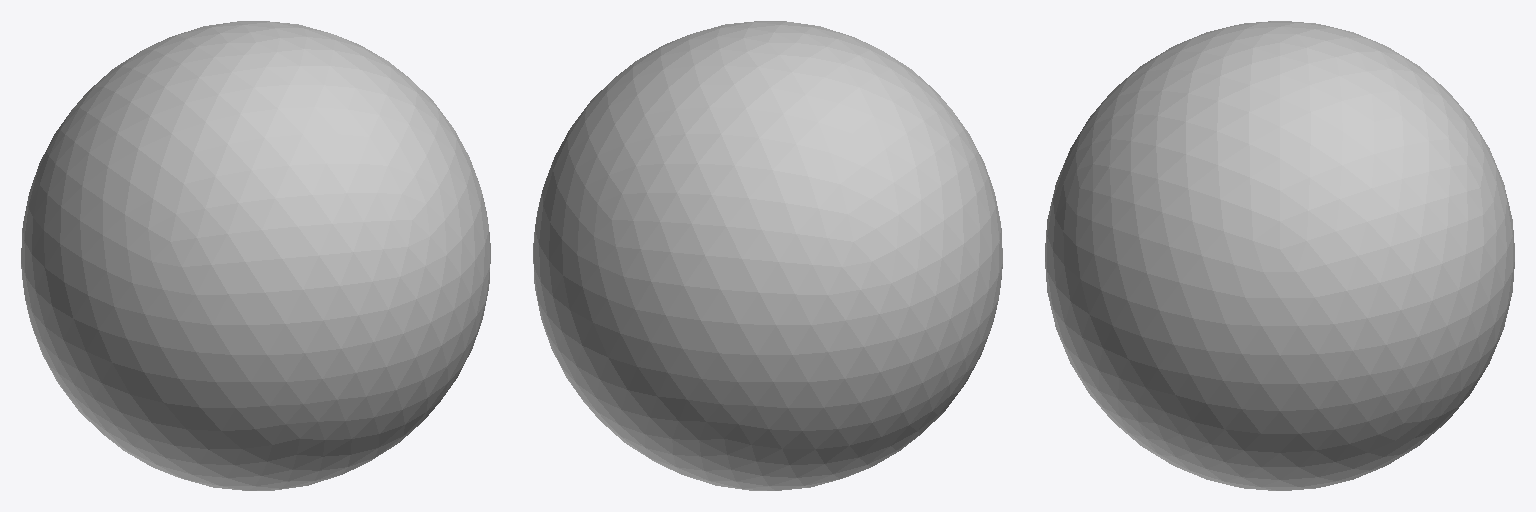
File: Power_Complex2_Bright.obj
3 views of the same model, side by side, from view 1: azimuth 30°, elevation 25°; view 2: azimuth 150°, elevation 25°; view 3: azimuth 270°, elevation 25° (orthographic).
Parts seen in each view (by area): view 1: Icosphere_Icosphere.002; view 2: Icosphere_Icosphere.002; view 3: Icosphere_Icosphere.002.
Boxes of the visible parts, x1=… form: Icosphere_Icosphere.002: x1=21, y1=21, x2=490, y2=490; Icosphere_Icosphere.002: x1=533, y1=21, x2=1002, y2=490; Icosphere_Icosphere.002: x1=1045, y1=21, x2=1514, y2=490.
Size of the model in its own units: 2.69 by 2.69 by 2.69.